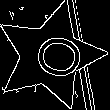O_W: (19, 29, 81, 83)
